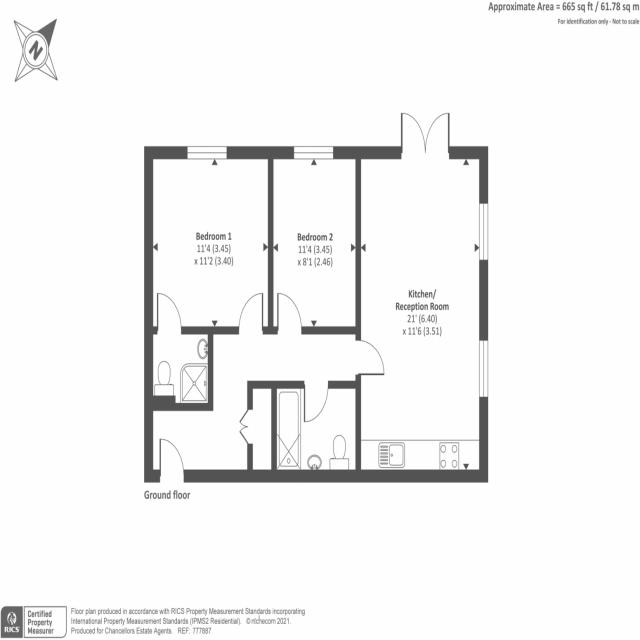DOOR: (159, 438, 183, 483), (304, 381, 329, 423), (238, 293, 263, 335), (356, 339, 384, 376), (277, 293, 302, 334), (157, 293, 182, 334)
DOUBLE DOOR: (399, 110, 451, 160)
ROOM: (355, 112, 489, 483), (144, 146, 274, 335), (268, 146, 361, 335)
WINDOW: (187, 146, 227, 160), (294, 146, 334, 159), (479, 204, 488, 261), (480, 340, 488, 398)
